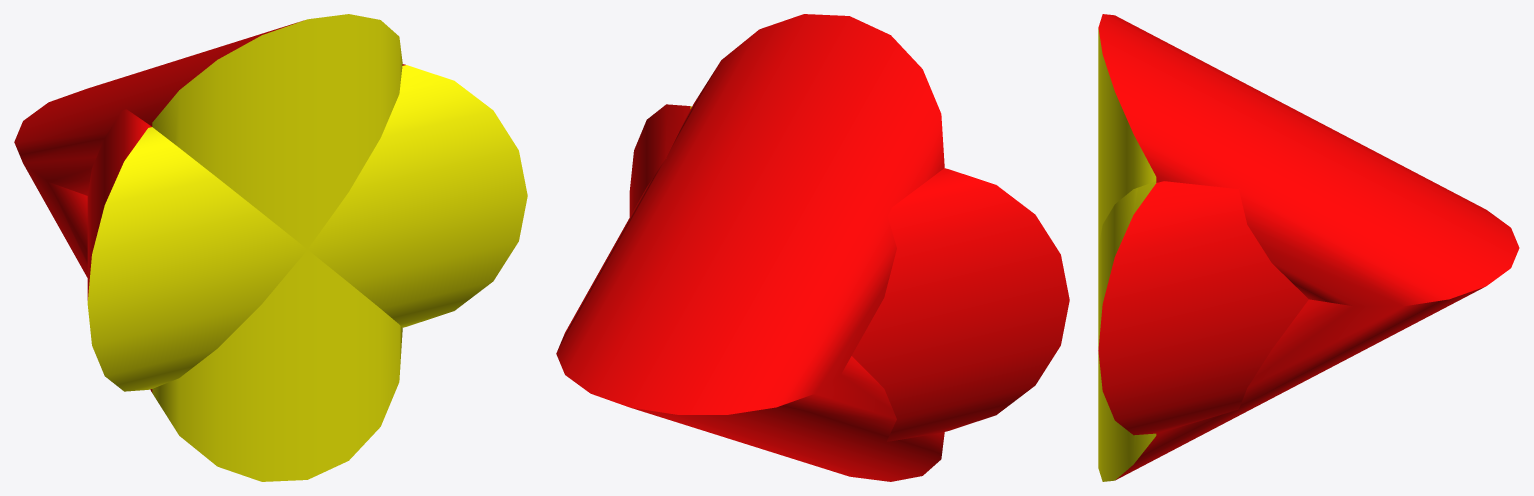
The picture shows the model from 3 angles, left to right: view 1: azimuth 30°, elevation 25°; view 2: azimuth 150°, elevation 25°; view 3: azimuth 270°, elevation 25°; orthographic projection. The views are drawn at different scales.
Parts seen in each view (by area): view 1: Объект_Тор_1, Объект_Тор; view 2: Объект_Тор_1, Объект_Тор; view 3: Объект_Тор_1, Объект_Тор.
Boxes of the visible parts, x1,y1,x2,y2 form: Объект_Тор_1: [14, 14, 402, 481]; Объект_Тор: [87, 64, 527, 391]; Объект_Тор_1: [556, 14, 944, 481]; Объект_Тор: [629, 104, 1069, 441]; Объект_Тор_1: [1098, 14, 1519, 481]; Объект_Тор: [1098, 181, 1308, 435].
Bounding box in the file's own units: 1.01 × 1.01 × 0.8719.
